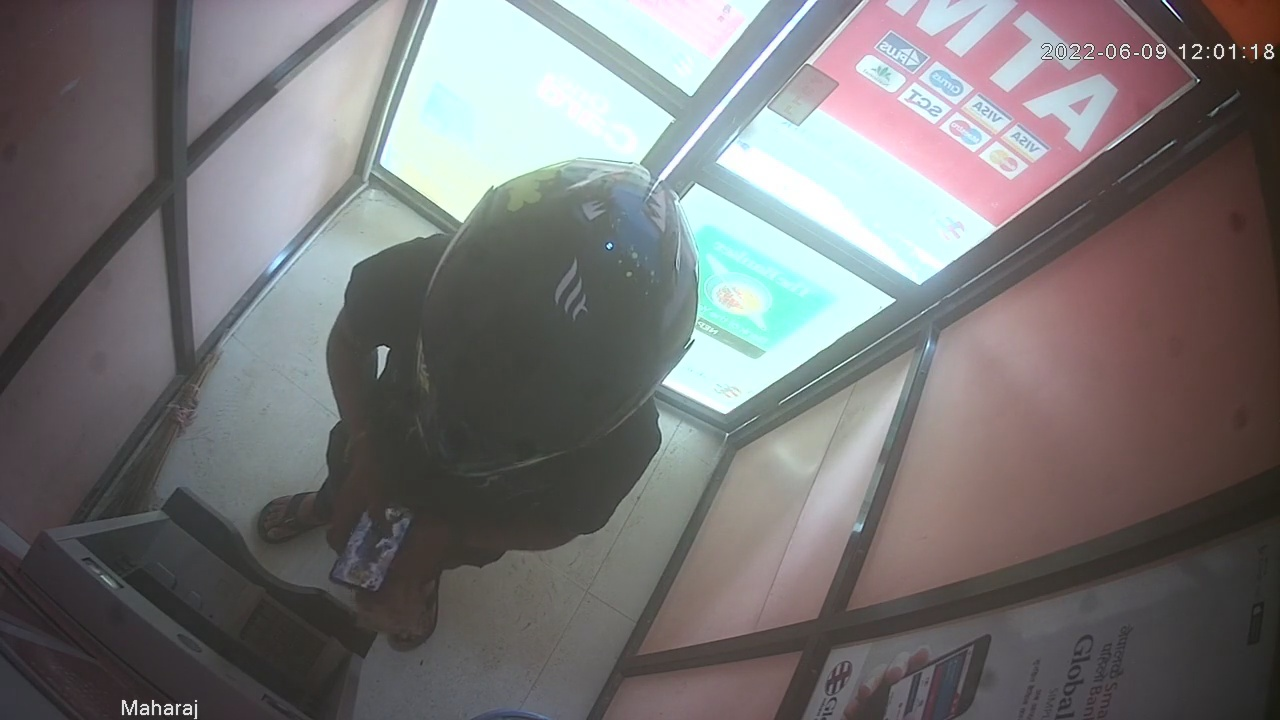helmet: (411, 155, 697, 479)
person: (256, 156, 699, 646)
